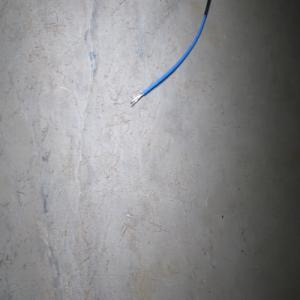Wire: (129, 0, 211, 107)
